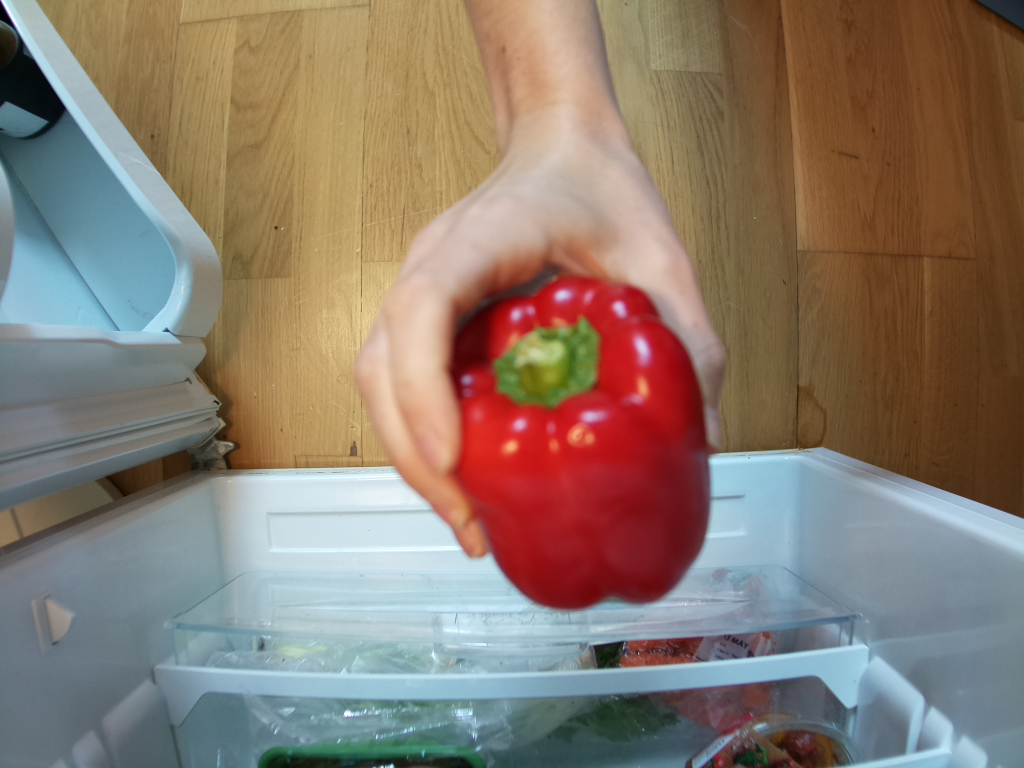pepper: (438, 270, 718, 616)
